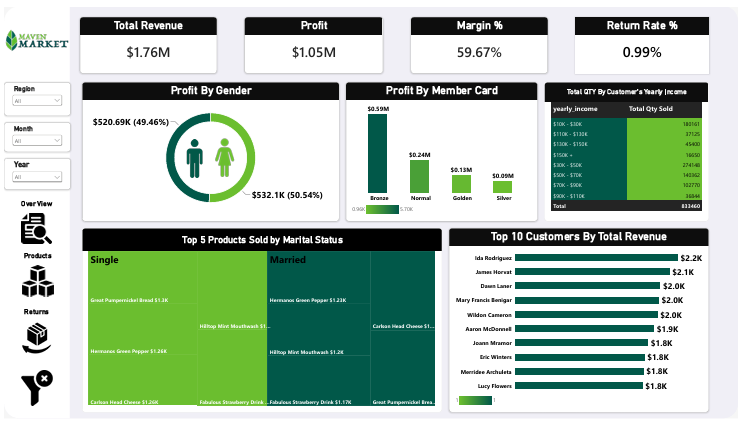

The page's visual inventory and layout, read from the dashboard file:
{"tool":"powerbi","page":{"name":"Customers","canvas":[1920,1080],"ordinal":3},"visuals":[{"type":"card","title":"Total Revenue","fields":{"Values":["_Measure.Total Revenue"]},"box":[197.7,25.5,359.3,148.8],"z":0},{"type":"card","title":"Profit","fields":{"Values":["_Measure.Profit"]},"box":[628.6,25.5,363.5,148.8],"z":1000},{"type":"card","title":"Margin %","fields":{"Values":["_Measure.Margin%"]},"box":[1063.7,25.5,359.3,148.8],"z":2000},{"type":"card","title":"Return Rate %","fields":{"Values":["_Measure.Return Rate %"]},"box":[1494.6,25.5,350.8,148.8],"z":3000},{"type":"image","box":[0,0,171.3,173.9],"z":4000},{"type":"group","id":"g1","title":"Group 1","box":[204.1,196.5,672.8,365.4],"z":5000},{"type":"donutChart","title":"Profit By Gender","fields":{"Category":["DimCustomers.gender"],"Y":["_Measure.Profit"]},"box":[204.1,196.5,672.8,365.4],"z":5000,"group":"g1"},{"type":"tableEx","title":"Total QTY By Customer''s Yearly Income","fields":{"Values":["DimCustomers.yearly_income","_Measure.Total Qty Sold"]},"box":[1413.5,196.5,430.9,365.4],"z":6000},{"type":"image","box":[447.8,290.9,101.7,211.7],"z":6000,"group":"g1"},{"type":"image","box":[513,263.2,127.8,262],"z":7000,"group":"g1"},{"type":"treemap","title":"Top 5 Products Sold by Marital Status","fields":{"Group":["DimCustomers.marital_status"],"Values":["_Measure.Total Revenue"],"Details":["DimProducts.product_name"]},"box":[204.1,579.5,942.4,483.8],"z":7000},{"type":"barChart","title":"Top 10 Customers By Total  Revenue","fields":{"Y":["_Measure.Total Revenue"],"Category":["DimCustomers.Full Name"]},"box":[1164.1,579.5,680.3,483.8],"z":8000},{"type":"columnChart","title":"Profit By Member Card","fields":{"Category":["DimCustomers.member_card"],"Y":["_Measure.Profit"]},"box":[894.5,196.5,501.4,365.4],"z":9000},{"type":"slicer","fields":{"Values":["DimCalendar.Month"]},"box":[0,302.4,173.9,78.1],"z":9001},{"type":"slicer","fields":{"Values":["DimCalendar.Year"]},"box":[0,395.6,173.9,83.1],"z":9002},{"type":"slicer","fields":{"Values":["DimRegions.sales_region"]},"box":[0,196.5,173.9,88.2],"z":9003},{"type":"image","title":"Over View","box":[23.4,503.9,123.3,116.9],"z":9004},{"type":"image","title":"Products","box":[25.5,639.9,123.3,119.1],"z":9005},{"type":"image","title":"Returns","box":[23.4,786.6,123.3,125.4],"z":9006},{"type":"image","box":[19.1,952.4,133.9,93.5],"z":9007}]}

Visuals, with their boxes on the page's 1920x1080 design canvas (x1, y1, x2, y2). These are canvas units, not pixel positions in the 745x428 screenshot, which may show the page scaled, cropped or inside an application window:
"Total Revenue" card: bbox=[198, 26, 557, 174]
"Profit" card: bbox=[629, 26, 992, 174]
"Margin %" card: bbox=[1064, 26, 1423, 174]
"Return Rate %" card: bbox=[1495, 26, 1845, 174]
image: bbox=[0, 0, 171, 174]
"Group 1" group: bbox=[204, 196, 877, 562]
"Profit By Gender" donutChart: bbox=[204, 196, 877, 562]
"Total QTY By Customer''s Yearly Income" tableEx: bbox=[1414, 196, 1844, 562]
image: bbox=[448, 291, 550, 503]
image: bbox=[513, 263, 641, 525]
"Top 5 Products Sold by Marital Status" treemap: bbox=[204, 580, 1146, 1063]
"Top 10 Customers By Total  Revenue" barChart: bbox=[1164, 580, 1844, 1063]
"Profit By Member Card" columnChart: bbox=[894, 196, 1396, 562]
slicer - DimCalendar.Month: bbox=[0, 302, 174, 380]
slicer - DimCalendar.Year: bbox=[0, 396, 174, 479]
slicer - DimRegions.sales_region: bbox=[0, 196, 174, 285]
"Over View" image: bbox=[23, 504, 147, 621]
"Products" image: bbox=[26, 640, 149, 759]
"Returns" image: bbox=[23, 787, 147, 912]
image: bbox=[19, 952, 153, 1046]
